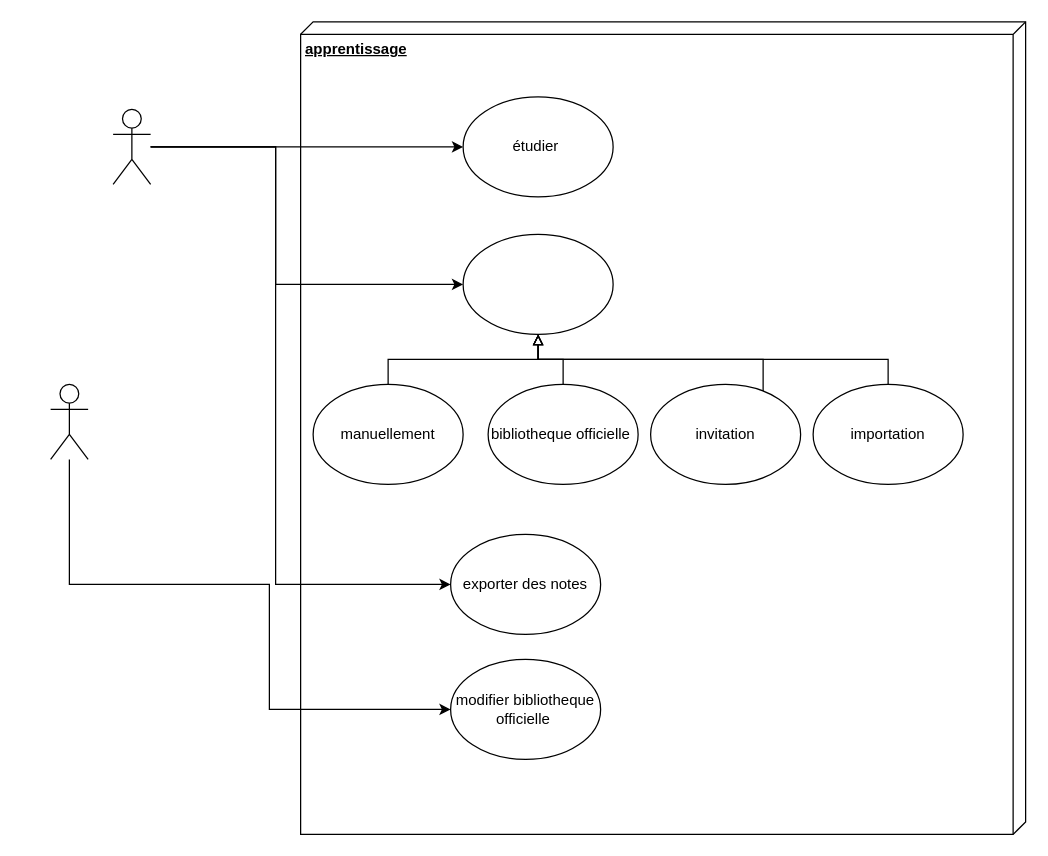
The diagram is 1048 pixels wide and 856 high, and some of its shapes have lost their labels. Here are the shapes that lost their labels. From the top down, the centre of each, then its label:
At pixel 131 146: "utilisateur".
At pixel 537 283: "ajouter des notes".
At pixel 68 421: "administrateur".
